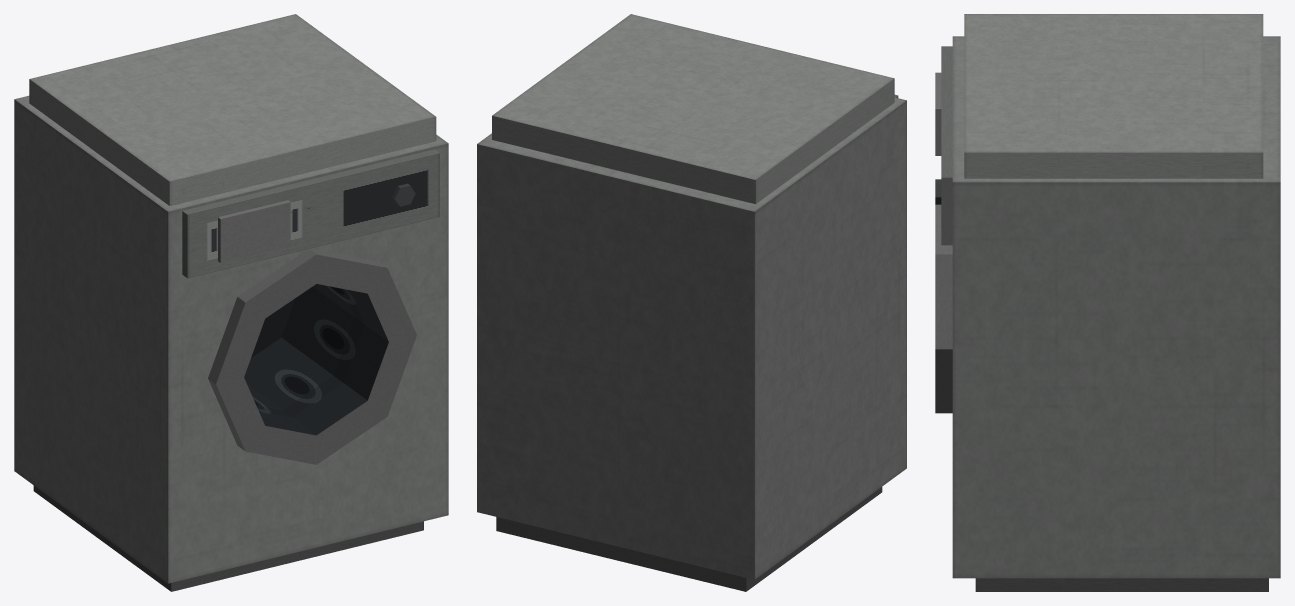
Rendered from washing_machine.glb.
3 renders of one model, left to right at view 1: azimuth 30°, elevation 25°; view 2: azimuth 150°, elevation 25°; view 3: azimuth 270°, elevation 25°, orthographic. The views are drawn at different scales.
Visible parts, largest first — view 1: core_washing_machine; view 2: core_washing_machine; view 3: core_washing_machine.
Part boxes in pixels (x1=…): core_washing_machine: x1=14, y1=14, x2=448, y2=591; core_washing_machine: x1=477, y1=14, x2=906, y2=591; core_washing_machine: x1=935, y1=14, x2=1280, y2=591.
Bounding box in the file's own units: 0.6 × 0.85 × 0.6.
1 material, 1 textured.
